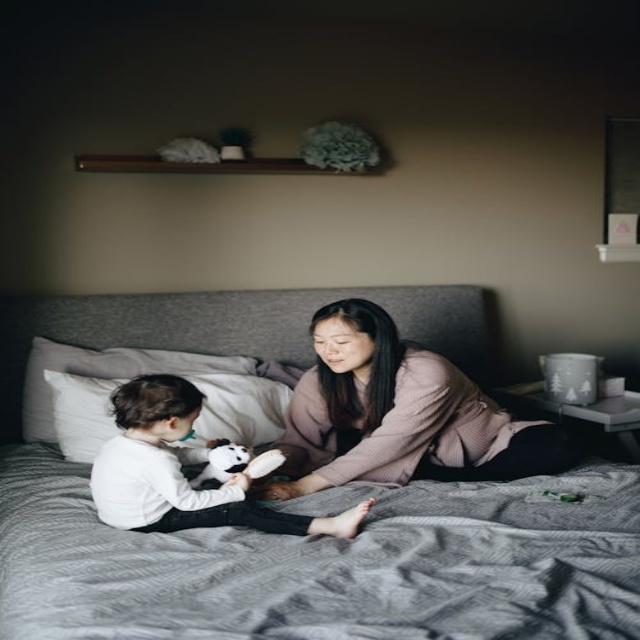Sin_gafas: (311, 333, 356, 349)
Sin_guantes: (248, 478, 300, 502)
Sin_mascara: (321, 354, 351, 371)
